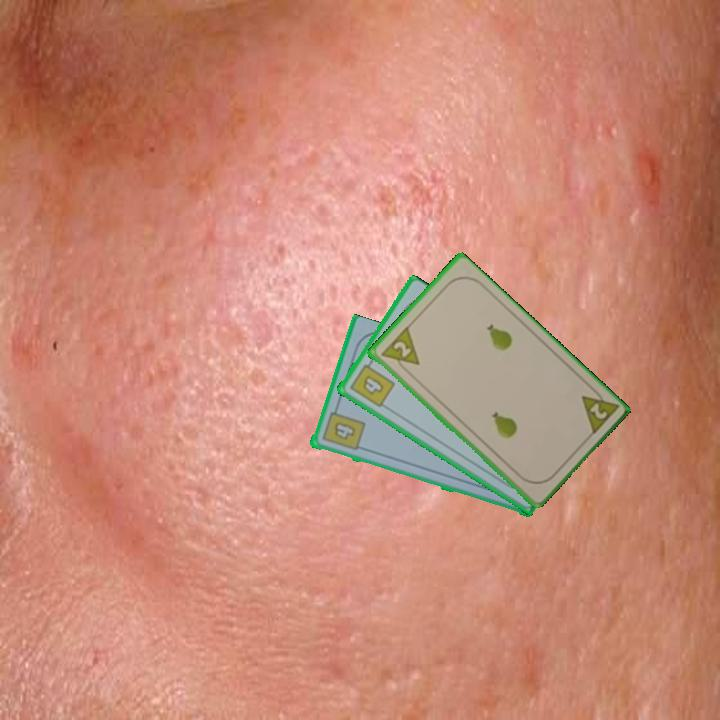2p: (577, 382, 621, 439), (377, 324, 422, 377)
4b: (345, 356, 397, 410), (318, 403, 367, 454)
